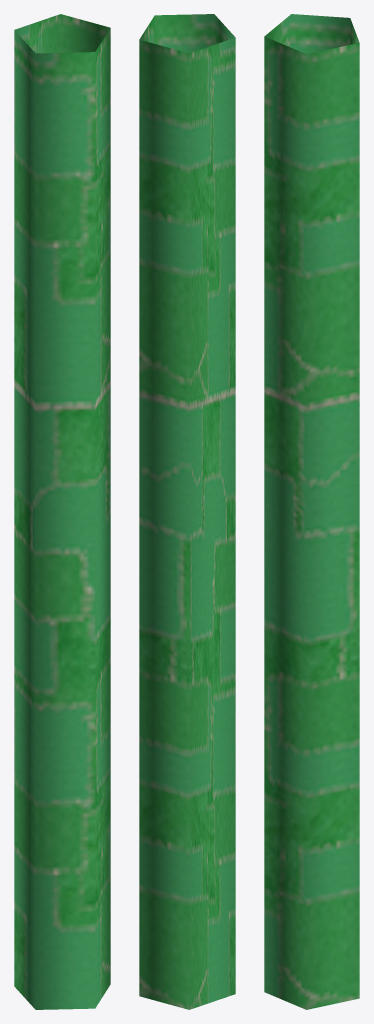
The model's file is flowerOptStalk.fbx.
3 views of the same model, side by side, from view 1: azimuth 30°, elevation 25°; view 2: azimuth 210°, elevation 25°; view 3: azimuth 270°, elevation 25° (orthographic).
Parts seen in each view (by area): view 1: flowerOptStalk_geo; view 2: flowerOptStalk_geo; view 3: flowerOptStalk_geo.
Part boxes in pixels (box(x1,y1,x2,y2)): flowerOptStalk_geo: box(14, 14, 110, 1009); flowerOptStalk_geo: box(139, 14, 235, 1009); flowerOptStalk_geo: box(264, 14, 359, 1009).
Bounding box in the file's own units: 96.52 × 1069 × 96.52.
